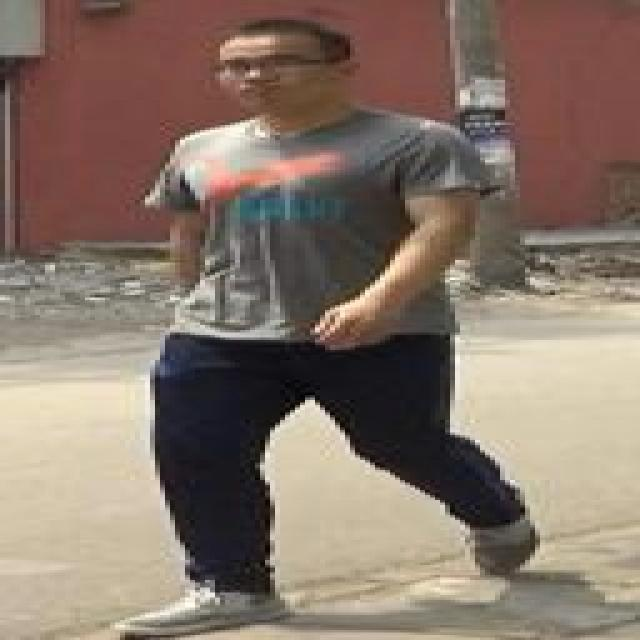adult: (94, 19, 592, 620)
